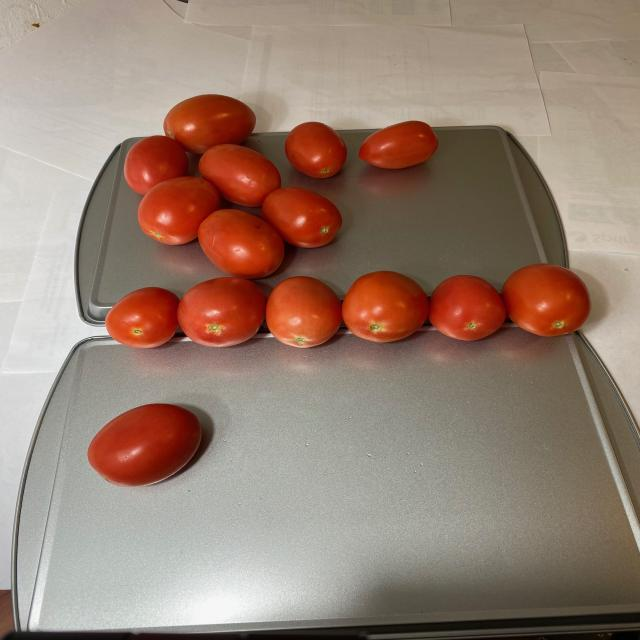tomato: (88, 95, 592, 346), (83, 402, 202, 486)
